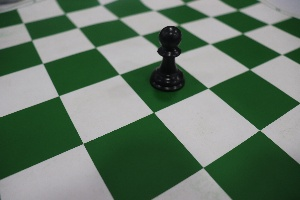black_pawn: (146, 16, 188, 99)
